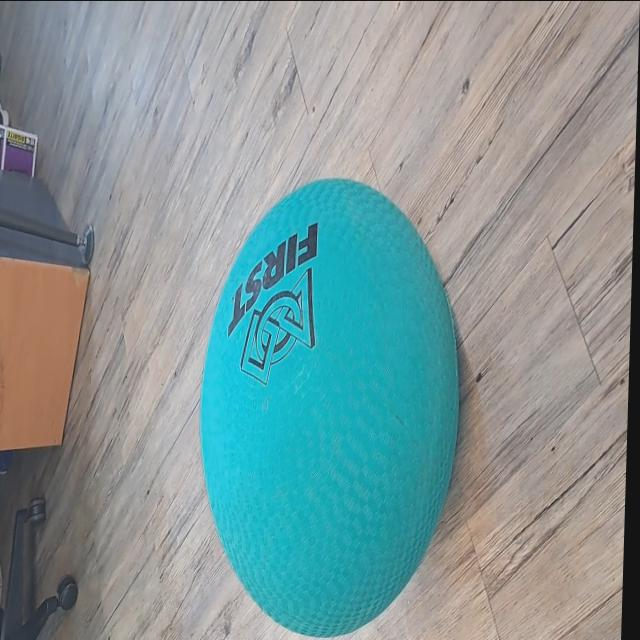ALGAE: (192, 175, 467, 637)
